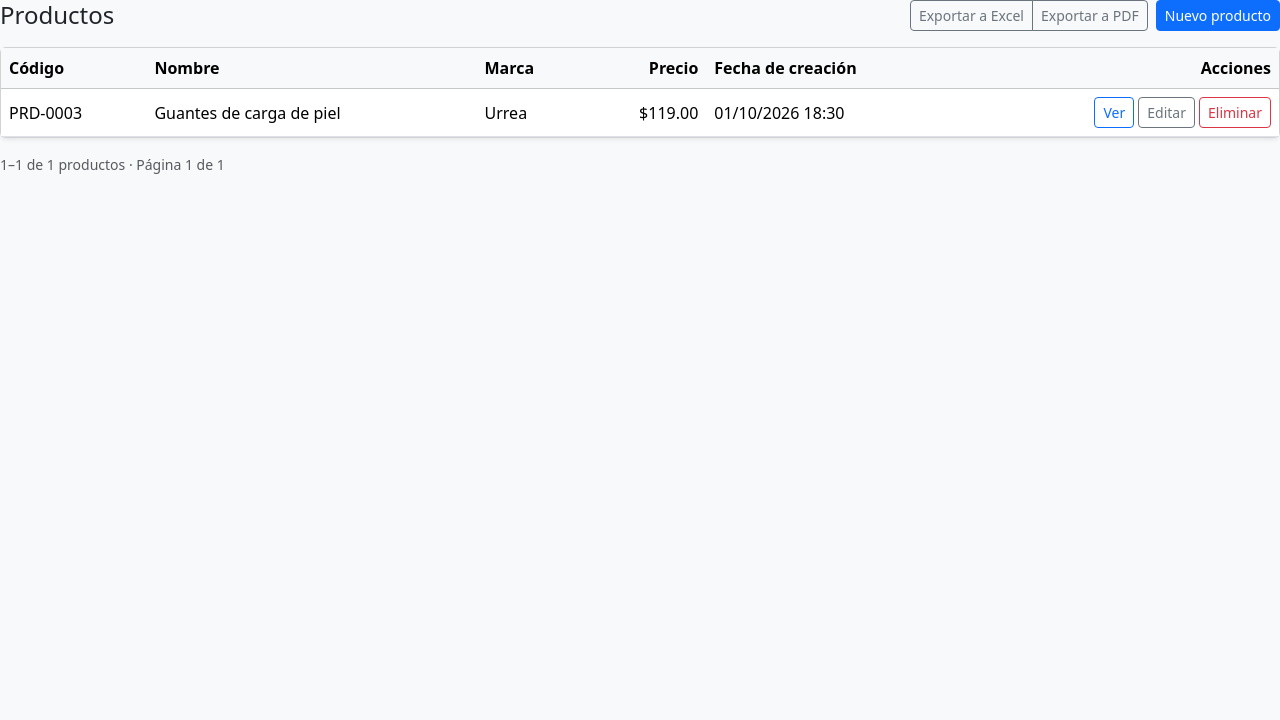
Test case: ProductListComponent › eliminar › muestra un error si la API no pudo eliminar
What coordinates should you click on to do the following:
click the button with class "btn-outline-danger"
I would click on:
 (1235, 112)
Its box is [1199, 97, 1271, 128].
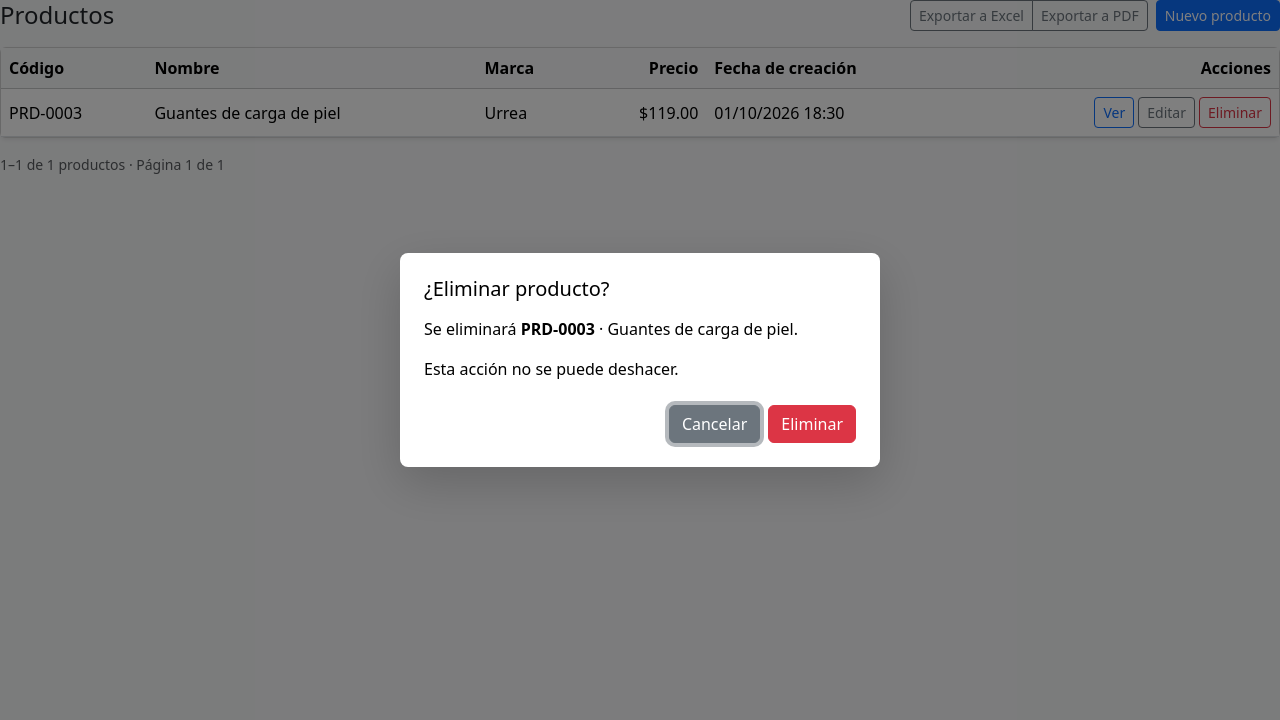
What coordinates should you click on to do the following:
click the button with class "btn-danger"
I would click on:
 (812, 424)
Its box is [768, 405, 856, 443].
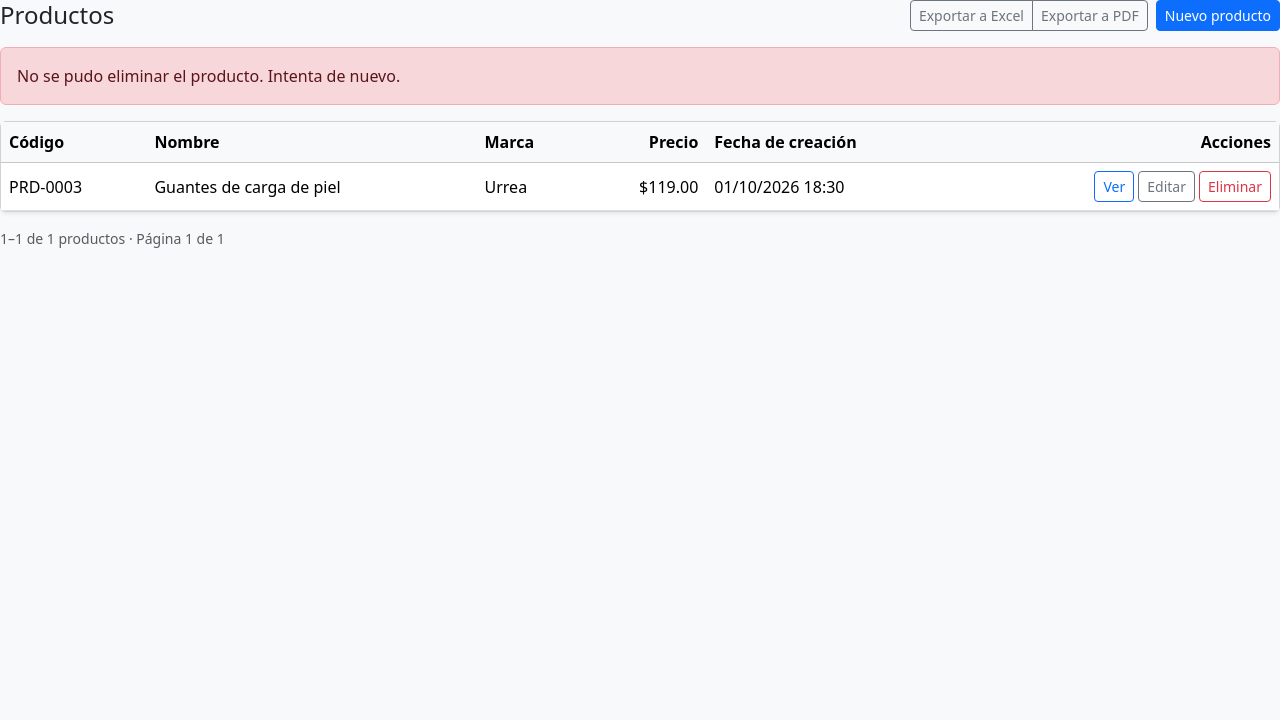
Result: the message "No se pudo eliminar el producto. Intenta de nuevo." is shown at [0, 47, 1279, 105]
